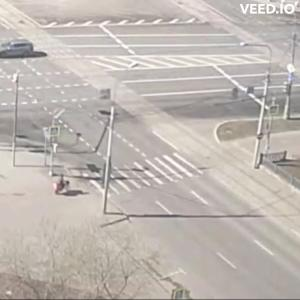car: (2, 41, 36, 60)
